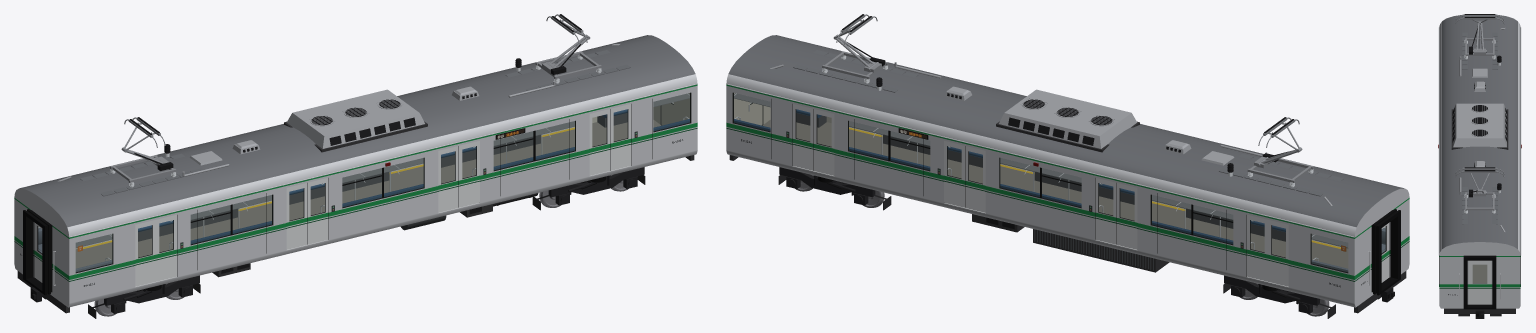
Rendered from r122_Mp_near.glb.
The picture shows the model from 3 angles, left to right: view 1: azimuth 30°, elevation 25°; view 2: azimuth 150°, elevation 25°; view 3: azimuth 270°, elevation 25°; orthographic projection. The views are drawn at different scales.
Parts seen in each view (by area): view 1: body_shell, ext_windows, interior_shell, opt_ac, interior_seats, interior_racks, end_R, bogie_front, bogie_rear, ext_fittings_signs, door_R2f, door_R3r (+13 smaller); view 2: body_shell, ext_windows, interior_shell, opt_ac, interior_seats, underfloor, interior_racks, end_R, bogie_front, bogie_rear, ext_fittings_signs, door_L1f (+13 smaller); view 3: body_shell, opt_ac, gw_door_F, ext_fittings_signs, end_F, pantograph, opt_snow_panto, roof_equipment, opt_snow_panto_gear, underfloor, interior_shell, roof_vents.
Boxes of the visible parts, x1,y1,x2,y2 form: body_shell: [14, 35, 697, 307]; ext_windows: [76, 93, 690, 272]; interior_shell: [34, 92, 691, 286]; opt_ac: [284, 89, 427, 152]; interior_seats: [38, 109, 689, 271]; interior_racks: [75, 93, 689, 247]; end_R: [20, 209, 55, 295]; bogie_front: [539, 167, 644, 207]; bogie_rear: [94, 275, 199, 316]; ext_fittings_signs: [70, 84, 696, 286]; door_R2f: [458, 141, 479, 207]; door_R3r: [286, 183, 307, 249]; body_shell: [726, 35, 1409, 307]; ext_windows: [733, 93, 1347, 272]; interior_shell: [732, 92, 1389, 286]; opt_ac: [996, 89, 1139, 152]; interior_seats: [734, 109, 1385, 271]; underfloor: [729, 155, 1406, 313]; interior_racks: [734, 93, 1348, 247]; end_R: [1361, 209, 1400, 295]; bogie_front: [779, 167, 884, 207]; bogie_rear: [1224, 275, 1329, 316]; ext_fittings_signs: [727, 84, 1353, 287]; door_L1f: [792, 104, 813, 170]; body_shell: [1439, 14, 1520, 308]; opt_ac: [1451, 103, 1508, 149]; gw_door_F: [1469, 260, 1490, 304]; ext_fittings_signs: [1438, 27, 1521, 286]; end_F: [1448, 255, 1500, 309]; pantograph: [1455, 14, 1504, 59]; opt_snow_panto: [1455, 167, 1504, 213]; roof_equipment: [1459, 28, 1505, 77]; opt_snow_panto_gear: [1459, 177, 1505, 231]; underfloor: [1444, 308, 1515, 318]; interior_shell: [1472, 264, 1487, 282]; roof_vents: [1474, 81, 1485, 167].
Bounding box in the file's own units: 20.14 × 5.11 × 3.03.
40 materials, 5 textured.
